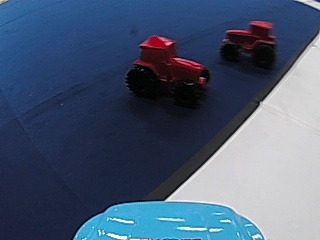tractor: (124, 31, 213, 105), (218, 18, 278, 66)
